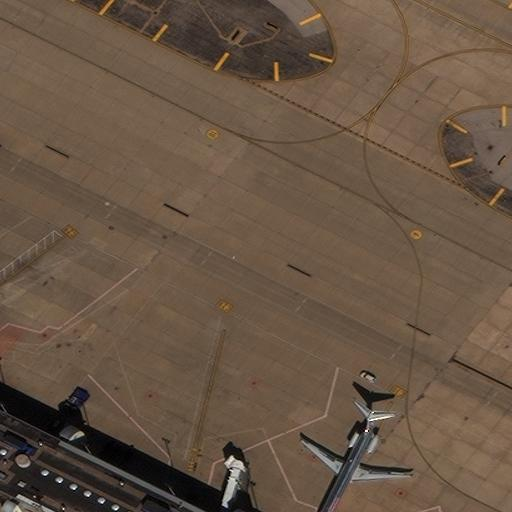Medium Civil Transport: (302, 410, 411, 512)
